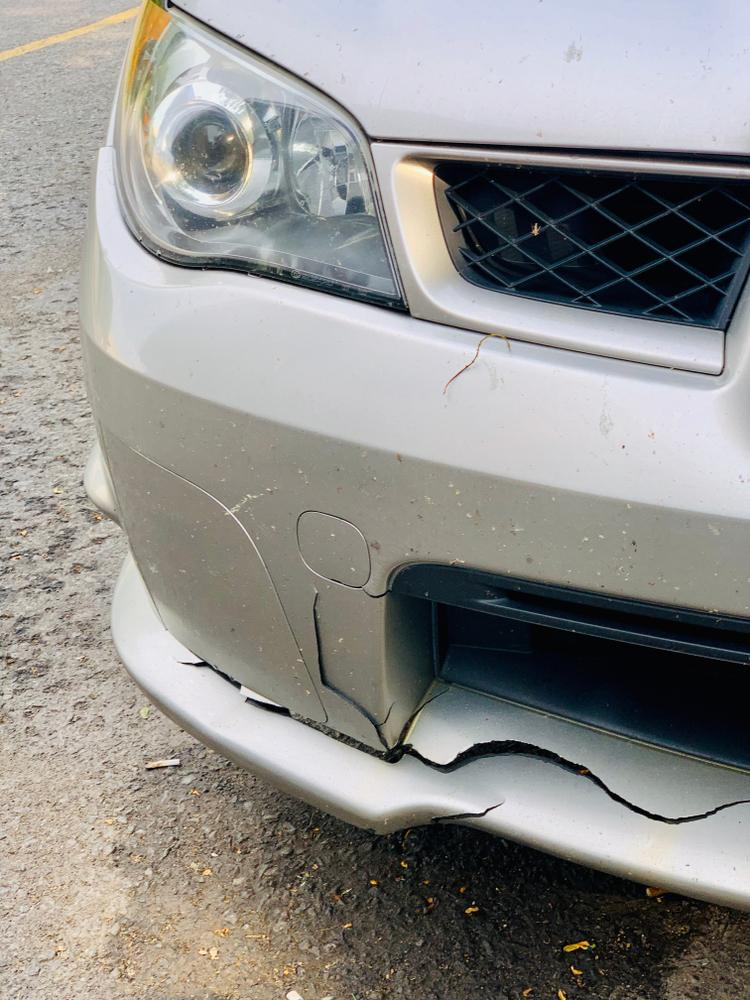crack: (312, 585, 750, 825), (430, 797, 509, 822), (173, 655, 211, 667), (361, 587, 390, 599)
